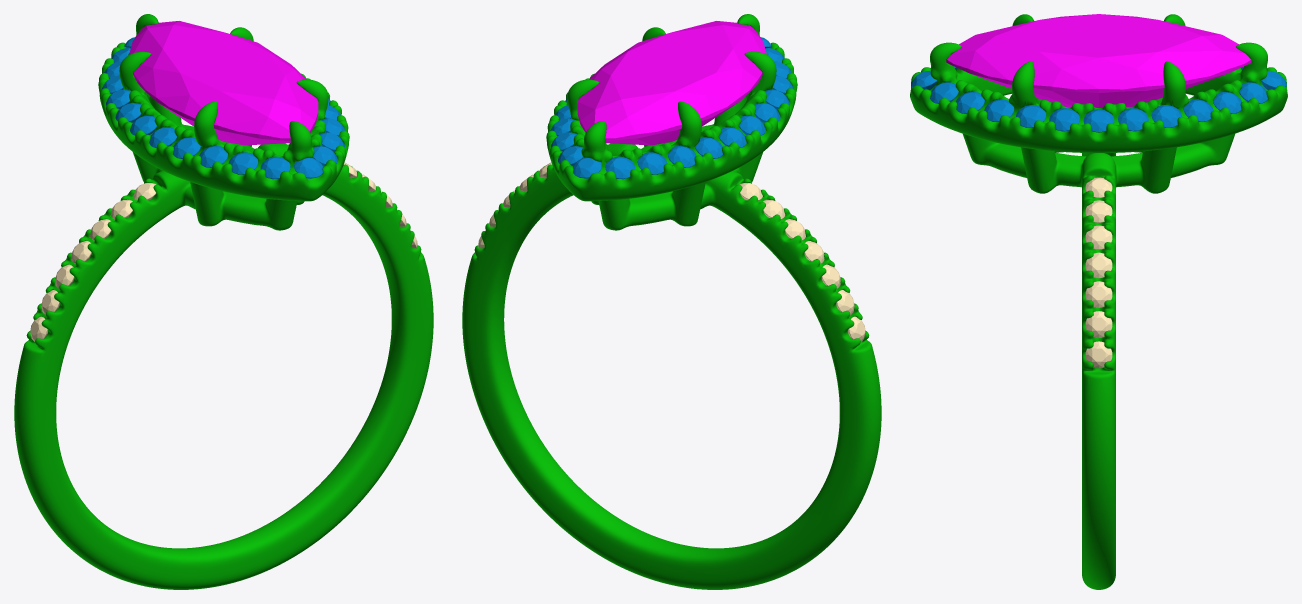
Rendered from BE1D166_MQ_200ct_RENDER.glb.
The picture shows the model from 3 angles, left to right: view 1: azimuth 30°, elevation 25°; view 2: azimuth 150°, elevation 25°; view 3: azimuth 270°, elevation 25°; orthographic projection. The views are drawn at different scales.
Visible parts, largest first — view 1: Metal 01, CS_Diamond_Marquise; view 2: Metal 01, CS_Diamond_Marquise; view 3: Metal 01, CS_Diamond_Marquise, Diamond_Round_Gem_SH.006, Diamond_Round_Gem_HD.016, Diamond_Round_Gem_SH.005, Diamond_Round_Gem_HD.015, Diamond_Round_Gem_HD.017, Diamond_Round_Gem_SH.004, Diamond_Round_Gem_HD.014, Diamond_Round_Gem_HD.018, Diamond_Round_Gem_SH.003.
Part boxes in pixels (x1=…): Metal 01: x1=14, y1=14, x2=433, y2=589; CS_Diamond_Marquise: x1=129, y1=21, x2=318, y2=145; Metal 01: x1=462, y1=14, x2=881, y2=589; CS_Diamond_Marquise: x1=577, y1=21, x2=766, y2=145; Metal 01: x1=910, y1=14, x2=1287, y2=589; CS_Diamond_Marquise: x1=946, y1=14, x2=1251, y2=107; Diamond_Round_Gem_SH.006: x1=1085, y1=341, x2=1112, y2=368; Diamond_Round_Gem_HD.016: x1=1083, y1=109, x2=1114, y2=132; Diamond_Round_Gem_SH.005: x1=1085, y1=311, x2=1112, y2=337; Diamond_Round_Gem_HD.015: x1=1118, y1=108, x2=1148, y2=131; Diamond_Round_Gem_HD.017: x1=1049, y1=108, x2=1079, y2=131; Diamond_Round_Gem_SH.004: x1=1085, y1=281, x2=1112, y2=307; Diamond_Round_Gem_HD.014: x1=1151, y1=105, x2=1182, y2=127; Diamond_Round_Gem_HD.018: x1=1016, y1=105, x2=1046, y2=127; Diamond_Round_Gem_SH.003: x1=1085, y1=252, x2=1112, y2=278.
Bounding box in the file's own units: 19.91 × 23.92 × 15.42.
